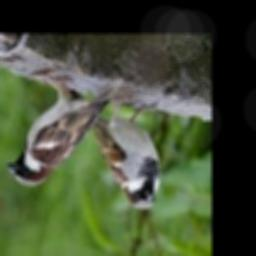Sparrow: (6, 75, 125, 187), (67, 90, 160, 210)
